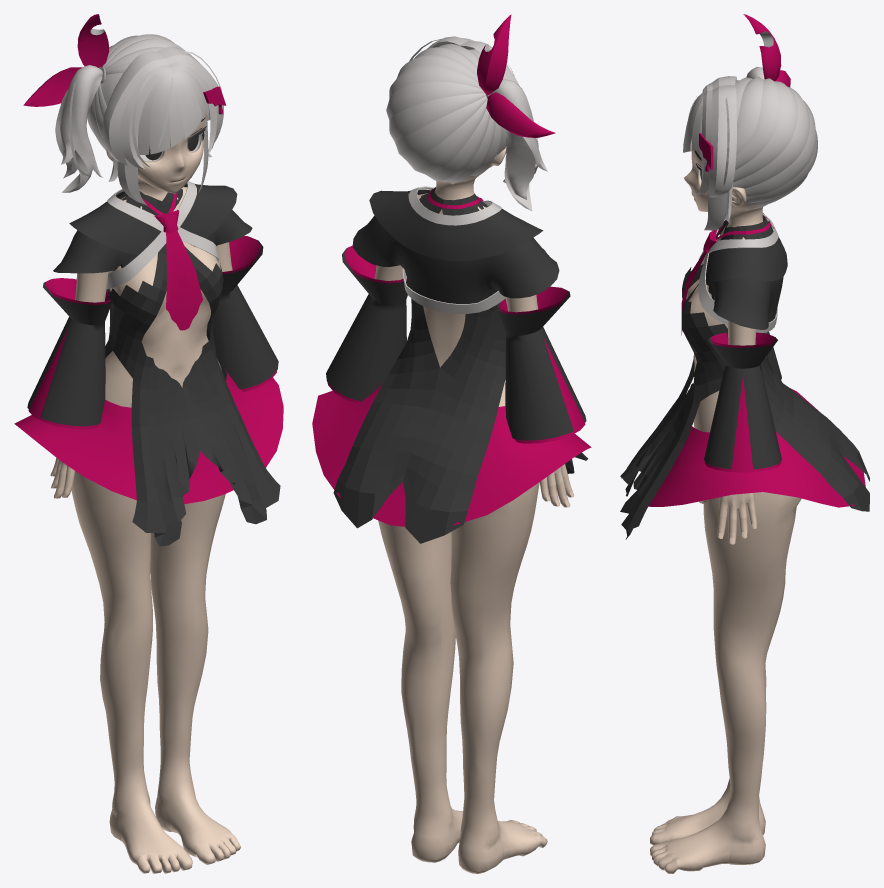
File: Chara_Giro.fbx
3 views of the same model, side by side, from view 1: azimuth 30°, elevation 25°; view 2: azimuth 150°, elevation 25°; view 3: azimuth 270°, elevation 25° (orthographic). The views are drawn at different scales.
Visible parts, largest first — view 1: Grp_Chara1_Face; view 2: Grp_Chara1_Face; view 3: Grp_Chara1_Face.
Boxes of the visible parts, left/top/right/bottom form: Grp_Chara1_Face: left=14, top=14, right=283, bottom=873; Grp_Chara1_Face: left=312, top=14, right=591, bottom=873; Grp_Chara1_Face: left=620, top=14, right=869, bottom=873.
Size of the model in its own units: 49.3 by 159 by 44.46.
